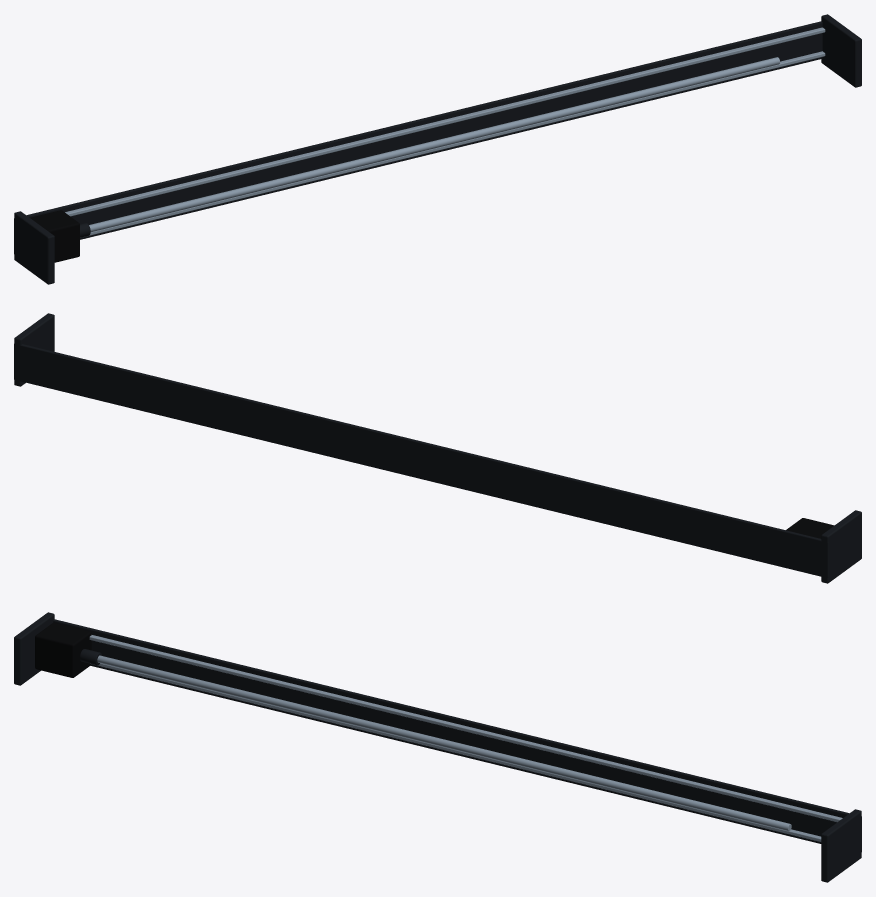
The model's file is linear_rail.obj.
3 renders of one model, top to bottom at view 1: azimuth 30°, elevation 25°; view 2: azimuth 150°, elevation 25°; view 3: azimuth 330°, elevation 25°, orthographic.
Visible parts, largest first — view 1: Rail_Base.001, Lead_Screw.001, Guide_Rail_Left.001, Guide_Rail_Right.001, End_Plate_Left.001, End_Plate_Right.001, Drive_Motor.001; view 2: Rail_Base.001, End_Plate_Left.001, End_Plate_Right.001, Drive_Motor.001; view 3: Rail_Base.001, Lead_Screw.001, Guide_Rail_Left.001, Guide_Rail_Right.001, Drive_Motor.001, End_Plate_Right.001, End_Plate_Left.001.
Part boxes in pixels (x1,y1,x2,y2): Rail_Base.001: (14,21,822,254); Lead_Screw.001: (89,57,779,232); Guide_Rail_Left.001: (65,27,825,216); Guide_Rail_Right.001: (80,51,825,237); End_Plate_Left.001: (14,211,54,284); End_Plate_Right.001: (821,14,861,87); Drive_Motor.001: (30,210,79,262); Rail_Base.001: (14,344,829,577); End_Plate_Left.001: (821,510,861,583); End_Plate_Right.001: (14,313,54,386); Drive_Motor.001: (786,518,834,538); Rail_Base.001: (53,619,861,852); Lead_Screw.001: (97,655,791,831); Guide_Rail_Left.001: (89,635,842,822); Guide_Rail_Right.001: (90,663,821,841); Drive_Motor.001: (35,622,91,677); End_Plate_Right.001: (821,809,861,882); End_Plate_Left.001: (14,612,54,685).
Size of the model in its own units: 1 by 0.056 by 0.073.
